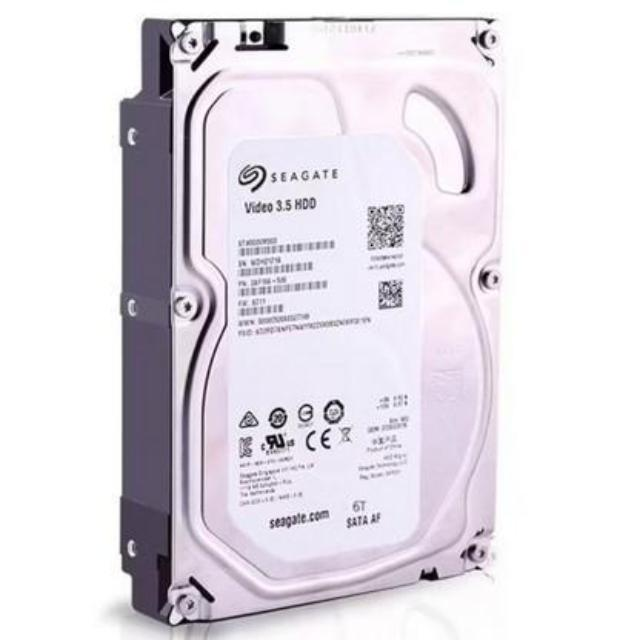DISK: (114, 9, 512, 631)
